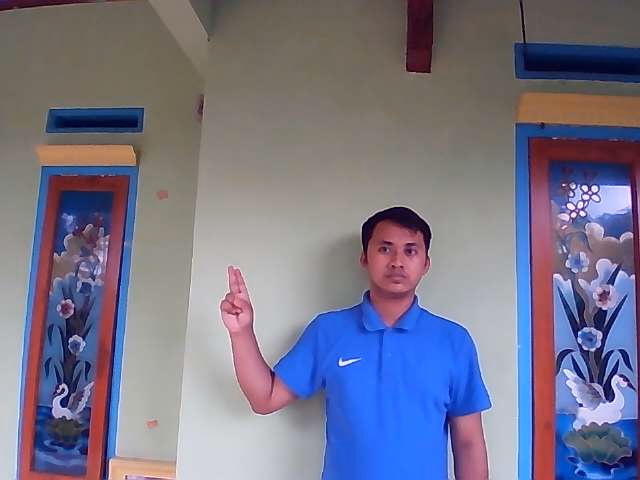U: (219, 265, 254, 335)
